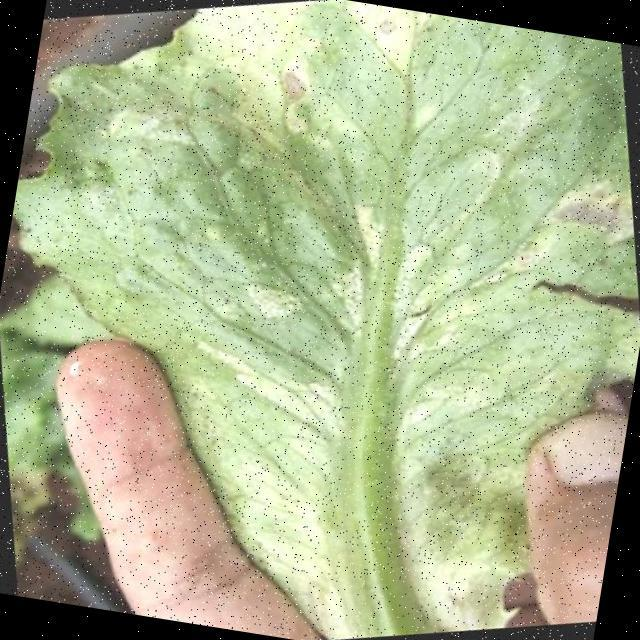Lettuce Mosaic Virus: (100, 0, 640, 490)
